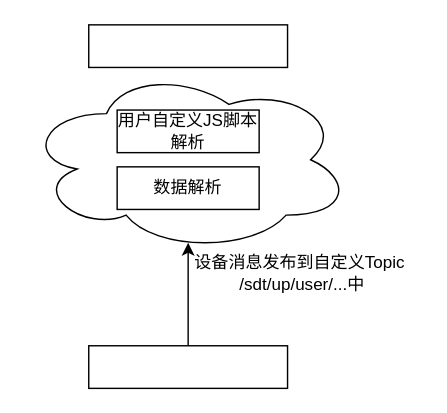
Image size: 447x413. Some labels were removed from this diagram. The centre of each missing label's shape, as x and y in pixels:
"云平台" goes at (x=187, y=45).
"设备" goes at (x=187, y=366).
